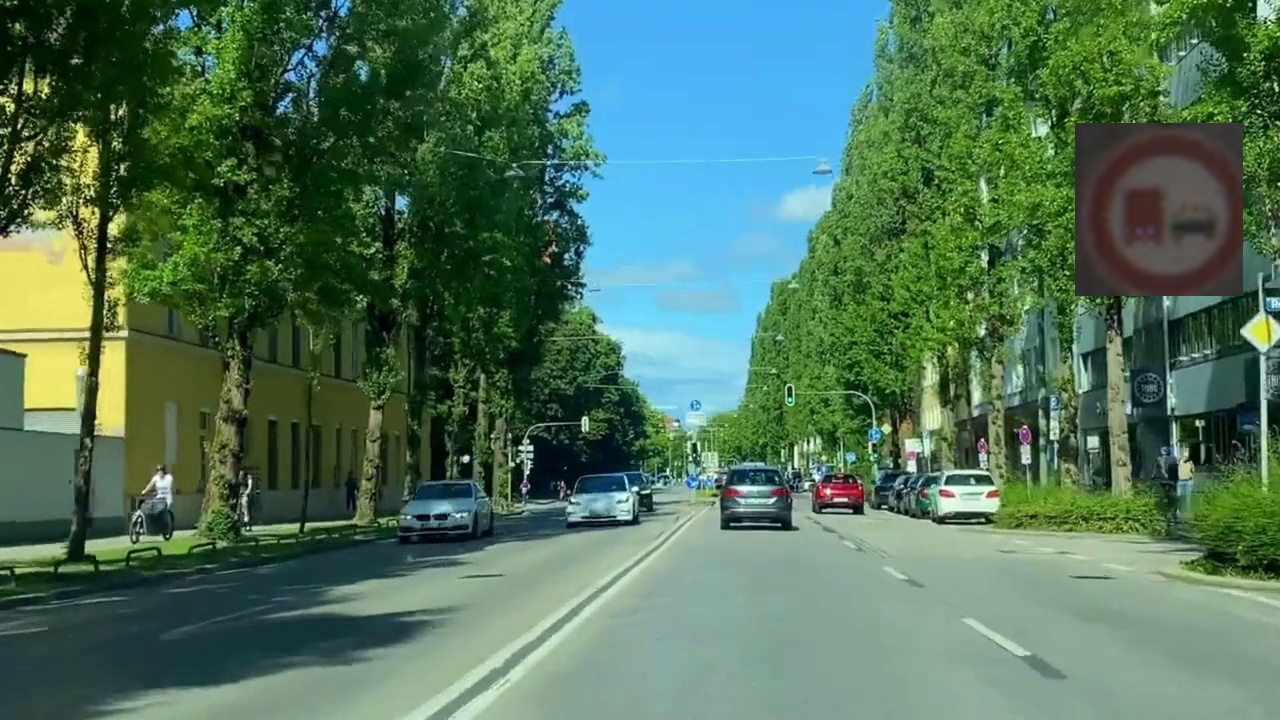No pass >3.5t: (1075, 123, 1243, 296)
